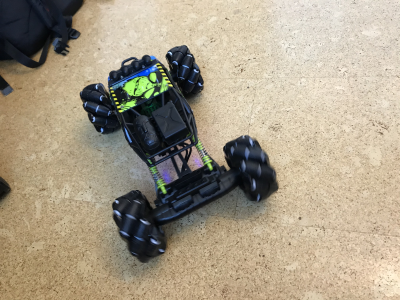remote control car: (78, 36, 281, 263)
